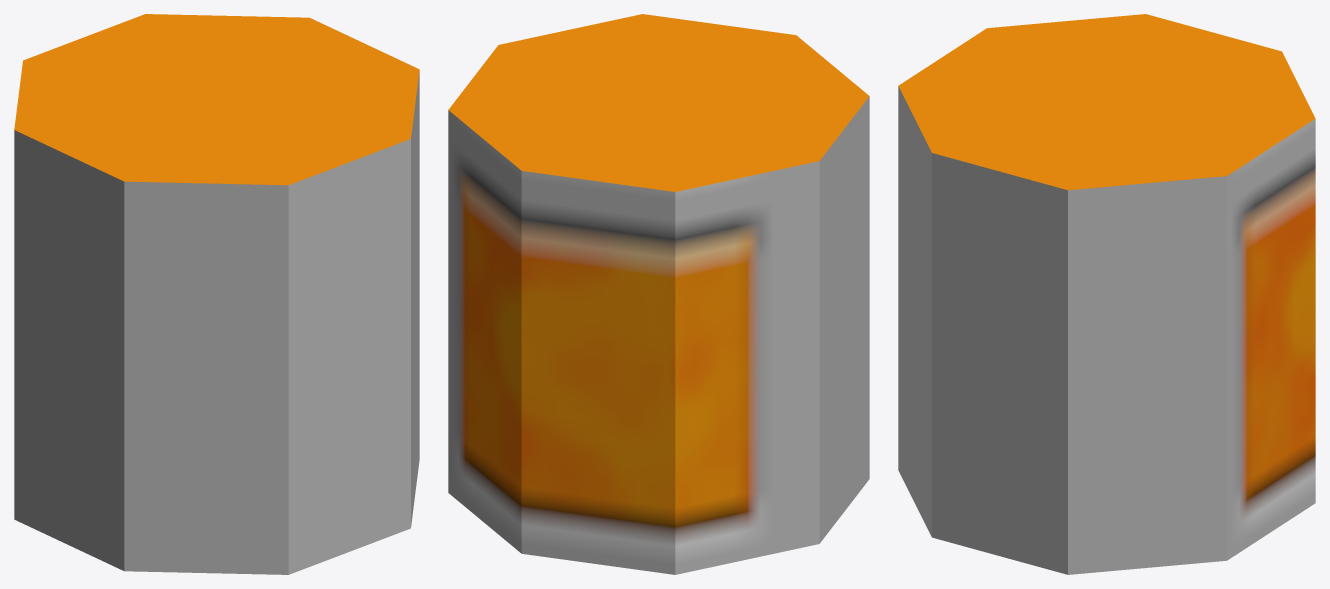
File: Can_of_Paint_01.fbx
The picture shows the model from 3 angles, left to right: view 1: azimuth 30°, elevation 25°; view 2: azimuth 150°, elevation 25°; view 3: azimuth 270°, elevation 25°; orthographic projection.
Visible parts, largest first — view 1: Hall.091; view 2: Hall.091; view 3: Hall.091.
Boxes of the visible parts, left/top/right/bottom form: Hall.091: left=14, top=14, right=419, bottom=574; Hall.091: left=448, top=14, right=869, bottom=574; Hall.091: left=898, top=14, right=1315, bottom=574.
Bounding box in the file's own units: 19.66 × 20 × 19.66.
